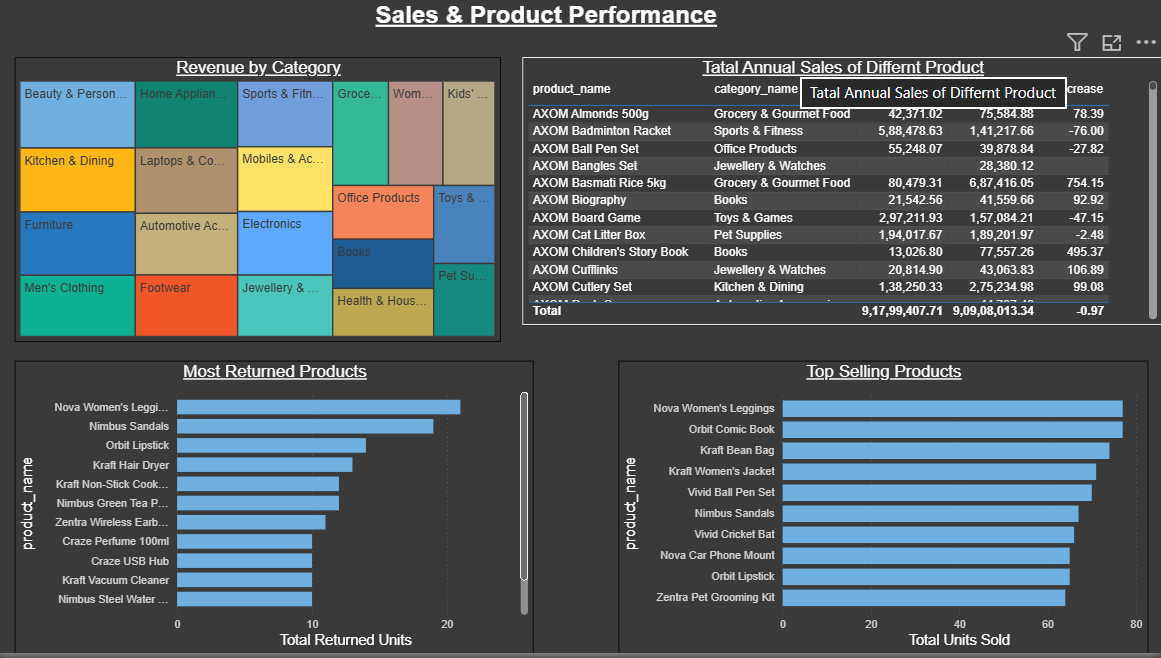

This screenshot's page, from the dashboard's own definition file:
{"tool":"powerbi","page":{"name":"Page 3","canvas":[1280,720],"ordinal":2},"visuals":[{"type":"treemap","title":"Revenue by Category","fields":{"Group":["category.category_name"],"Values":["Measures (2).Total Revenue"]},"box":[20.3,65.2,533.6,313.2],"z":0},{"type":"barChart","title":"Most Returned Products ","fields":{"Category":["product.product_name"],"Y":["Measures (2).Total Returned Units"]},"box":[20.3,398.7,569.8,321.9],"z":1000},{"type":"tableEx","title":"Tatal Annual Sales of Differnt Product","fields":{"Values":["product.product_name","category.category_name","Measures (2).Revenue 2022","Measures (2).Revenue 2023","Measures (2).Decrease Ratio %"]},"box":[577.1,65.2,703.2,294.3],"z":2000},{"type":"clusteredBarChart","title":"Top Selling Products ","fields":{"Y":["Measures (2).Total Units Sold"],"Category":["product.product_name"]},"box":[682.9,398.7,581.4,321.9],"z":3000},{"type":"textbox","box":[411.8,0,435,50.7],"z":4000}]}

Visuals, with their boxes in screenshot pixels (x1, y1, x2, y2), scaled from the page's 1280x720 canvas onto the 1161x658 screenshot:
"Revenue by Category" treemap: x1=18 y1=60 x2=502 y2=346
"Most Returned Products " barChart: x1=18 y1=364 x2=535 y2=657
"Tatal Annual Sales of Differnt Product" tableEx: x1=523 y1=60 x2=1160 y2=329
"Top Selling Products " clusteredBarChart: x1=619 y1=364 x2=1147 y2=657
textbox: x1=374 y1=0 x2=768 y2=46
